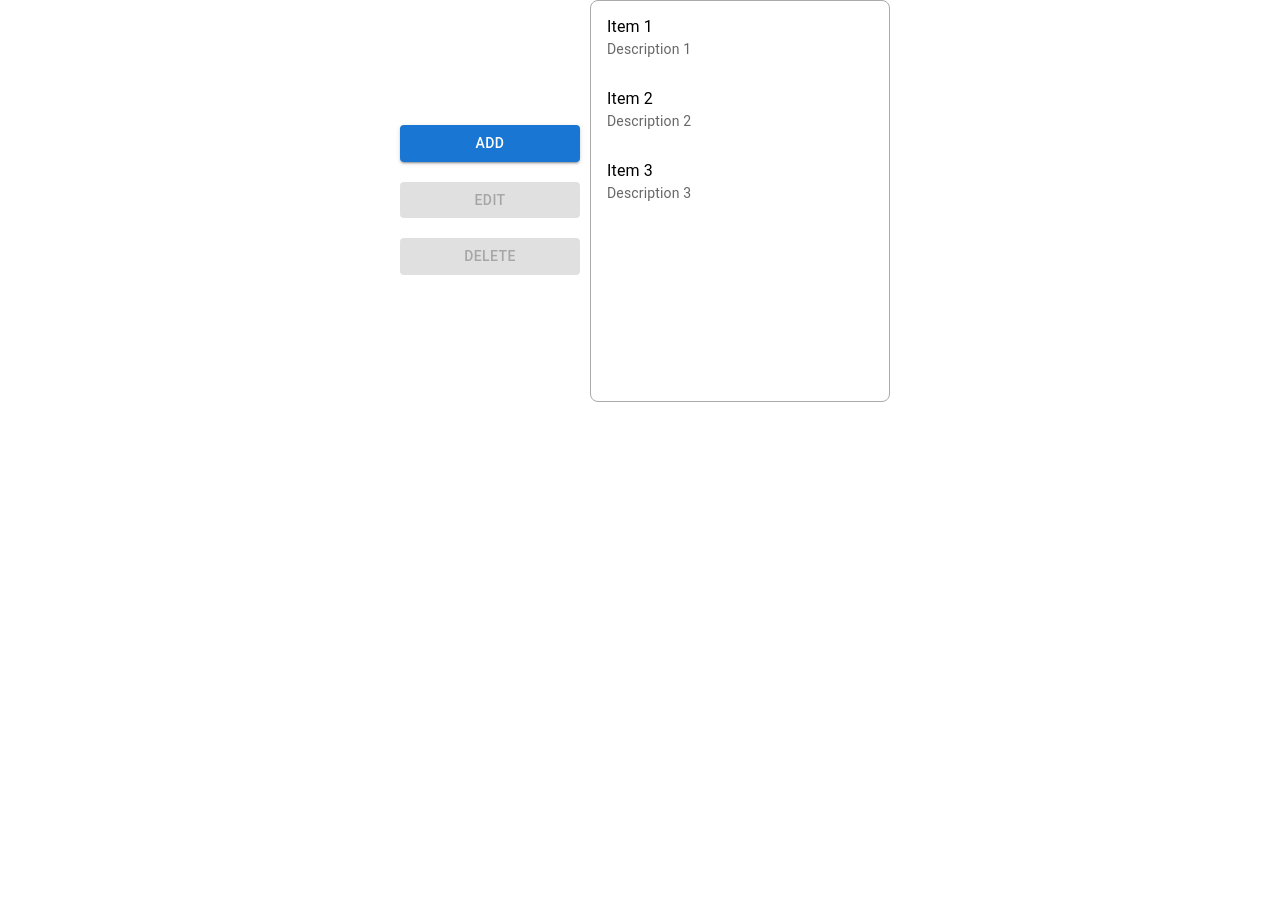
Scenario: ToDoList › should open edit dialog and edit existing item
The image size is (1280, 900).
Step 1. Click the text "Item 1" → (630, 26), box [607, 17, 653, 36]
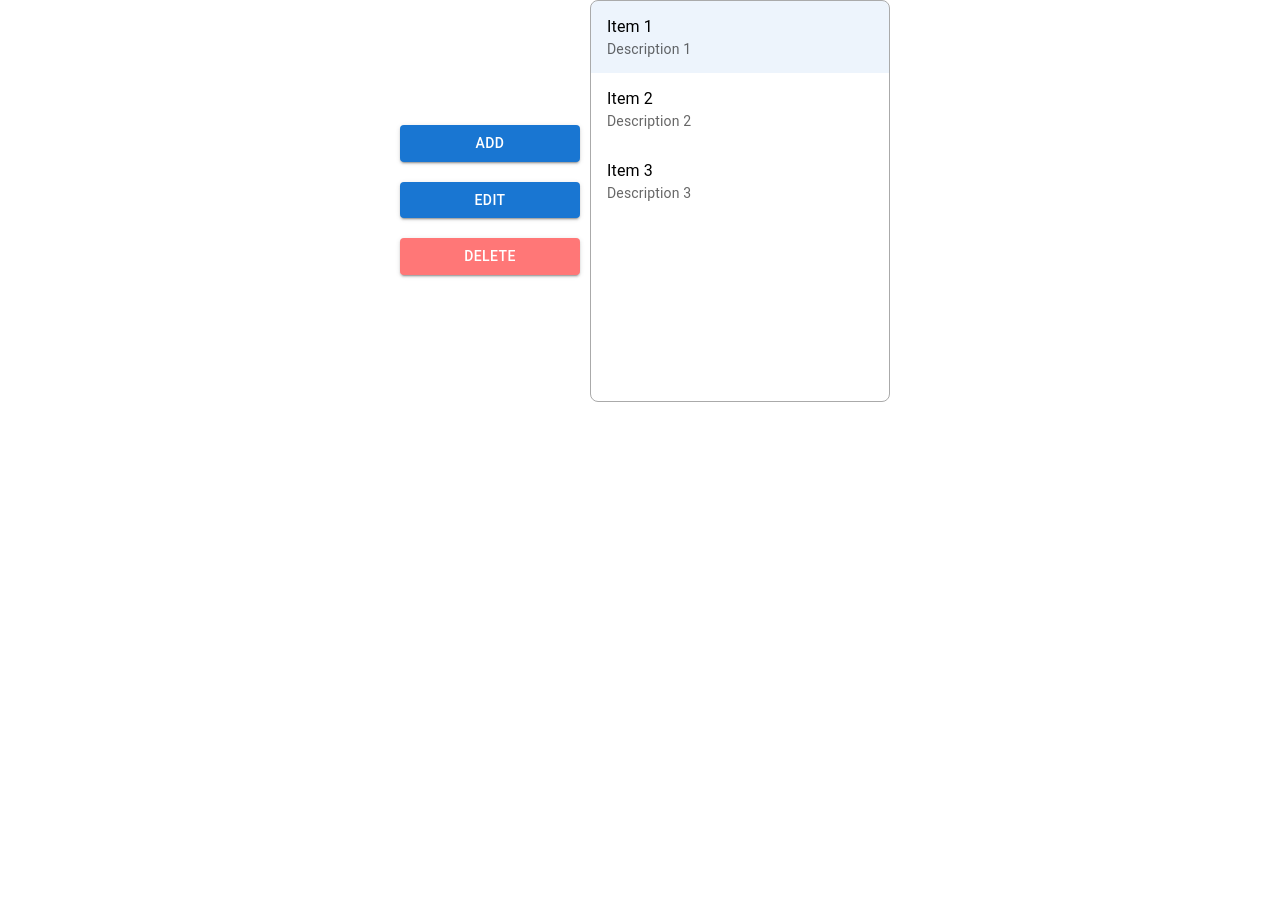
Step 2. Click the button "Edit" → (490, 200), box [400, 182, 580, 218]
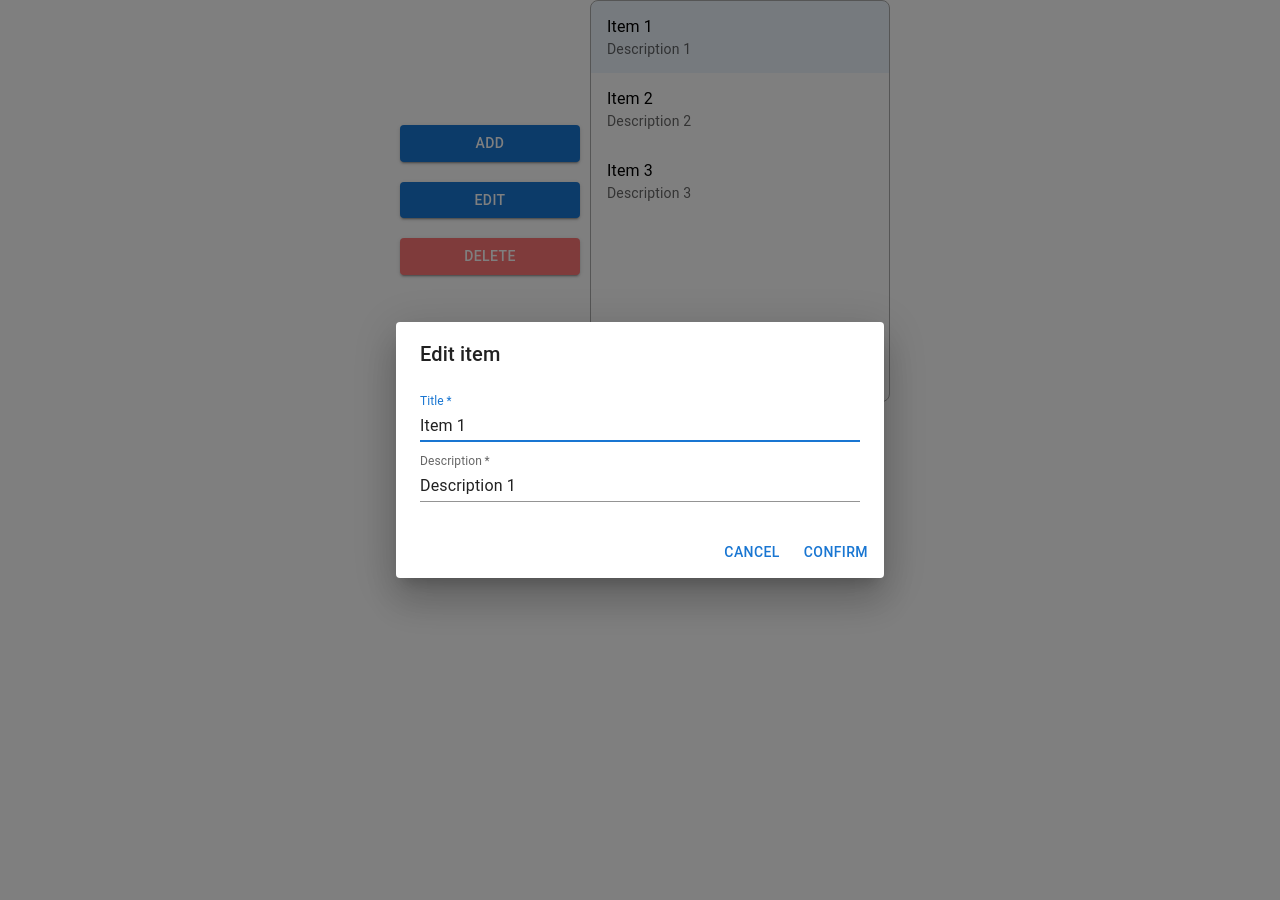
Check: the dialog is shown, box [396, 322, 884, 578]
Step 3. Replace the text in the field labelled "Title *" with "Edited Item 1" → (640, 426), box [420, 410, 860, 442]
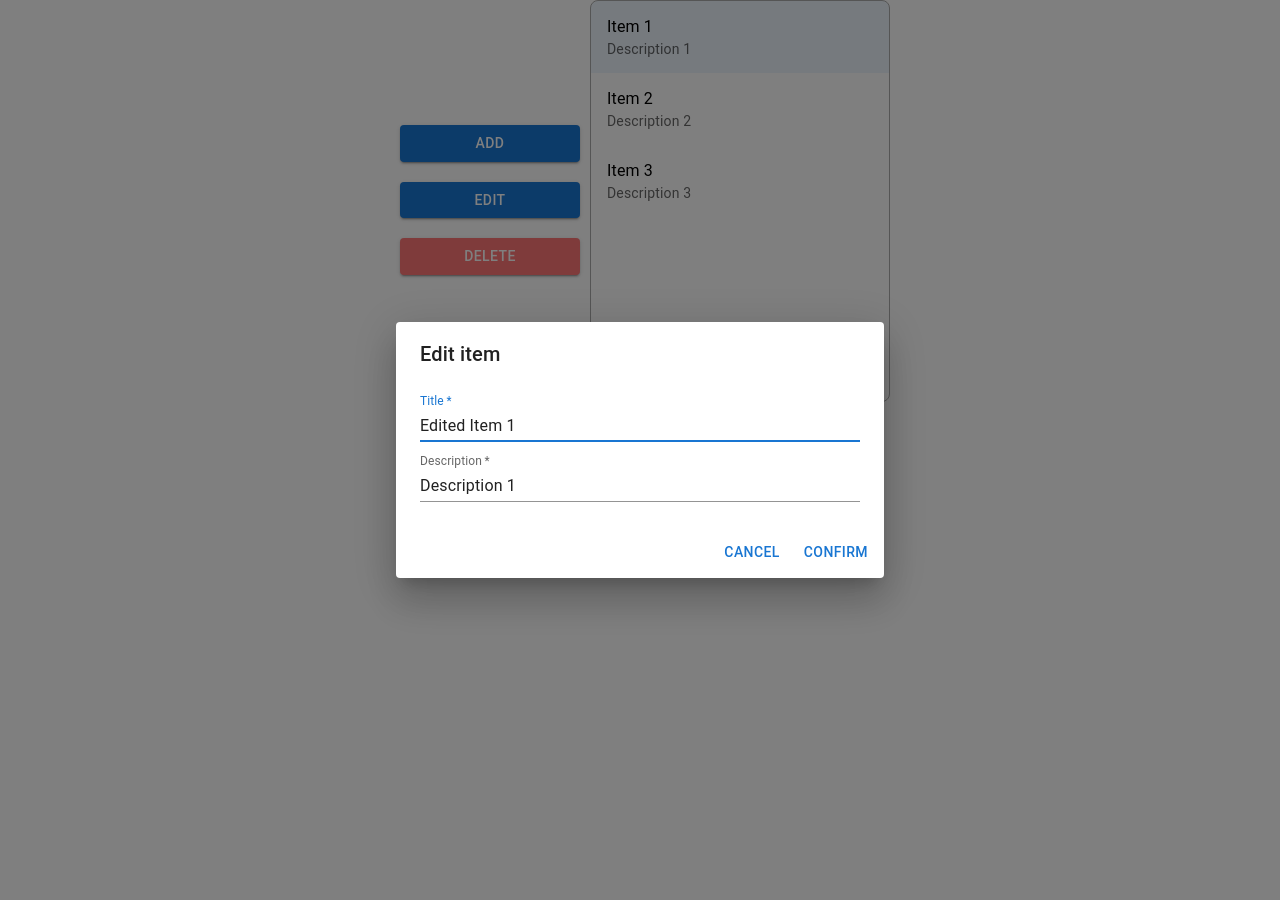
Step 4. Replace the text in the field labelled "Description *" with "Edited Description 1" → (640, 486), box [420, 470, 860, 502]
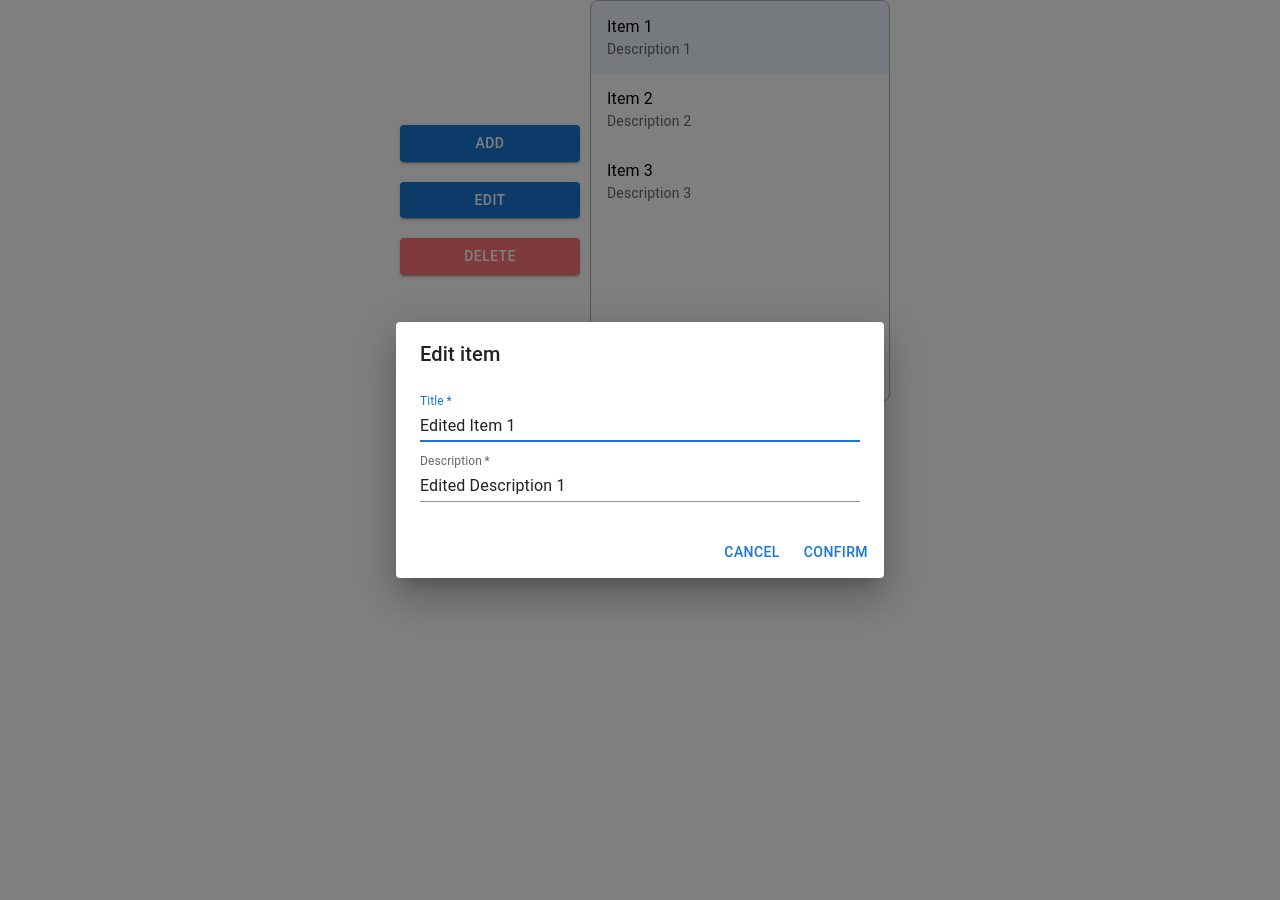
Step 5. Click the button "Confirm" → (836, 552), box [796, 534, 876, 570]
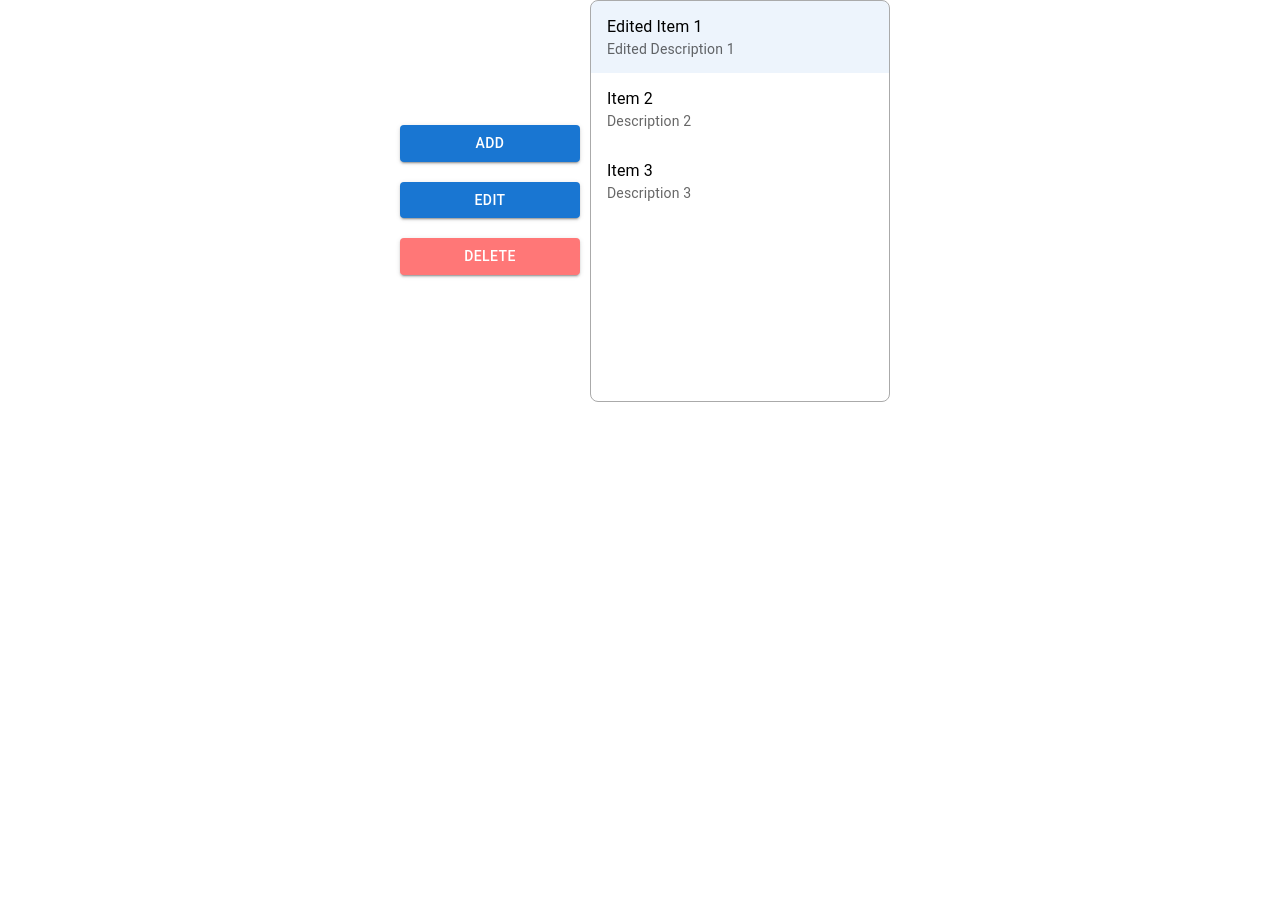
Check: the text "Edited Item 1" is shown, box [607, 17, 703, 36]
Check: the text "Edited Description 1" is shown, box [607, 41, 735, 57]
